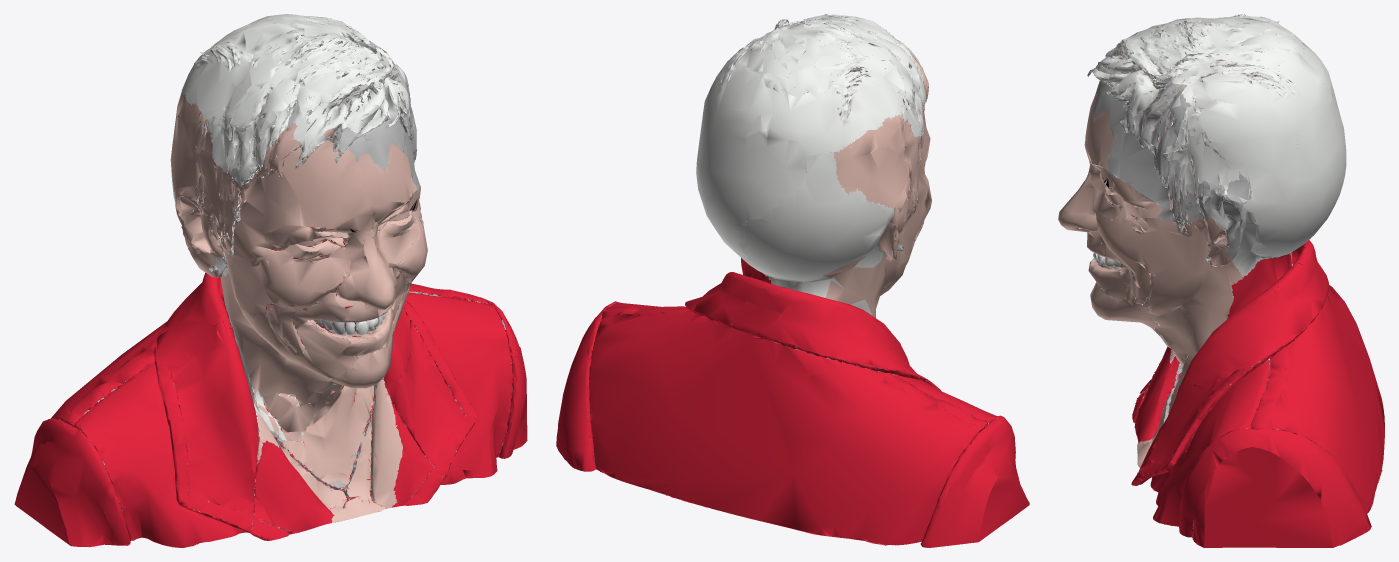
File: Annie_Lennox_under_2mb.glb
3 renders of one model, left to right at view 1: azimuth 30°, elevation 25°; view 2: azimuth 150°, elevation 25°; view 3: azimuth 270°, elevation 25°, orthographic. The views are drawn at different scales.
Parts seen in each view (by area): view 1: model; view 2: model; view 3: model.
Part boxes in pixels (<box>): model: <box>14,14,527,547</box>; model: <box>556,14,1029,547</box>; model: <box>1058,14,1384,547</box>.
Bounding box in the file's own units: 1.79 × 1.73 × 1.21.
